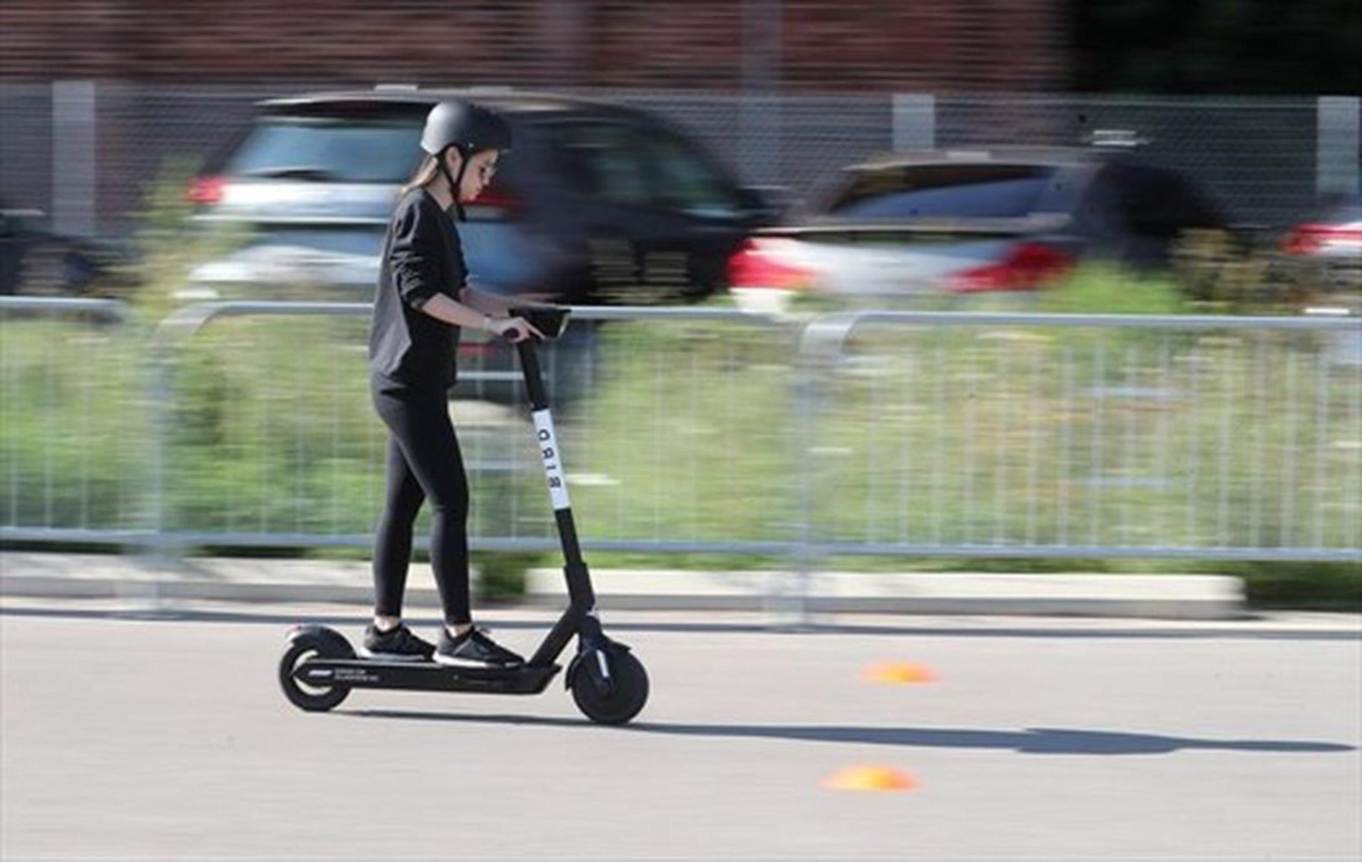helmet: (401, 97, 510, 209)
human: (378, 97, 534, 659)
kickboard: (267, 624, 650, 719)
